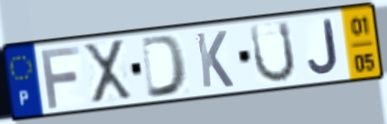D: (138, 32, 190, 101)
F: (38, 44, 82, 110)
J: (306, 18, 341, 77)
K: (193, 29, 236, 91)
U: (248, 18, 298, 85)
X: (80, 37, 135, 107)
